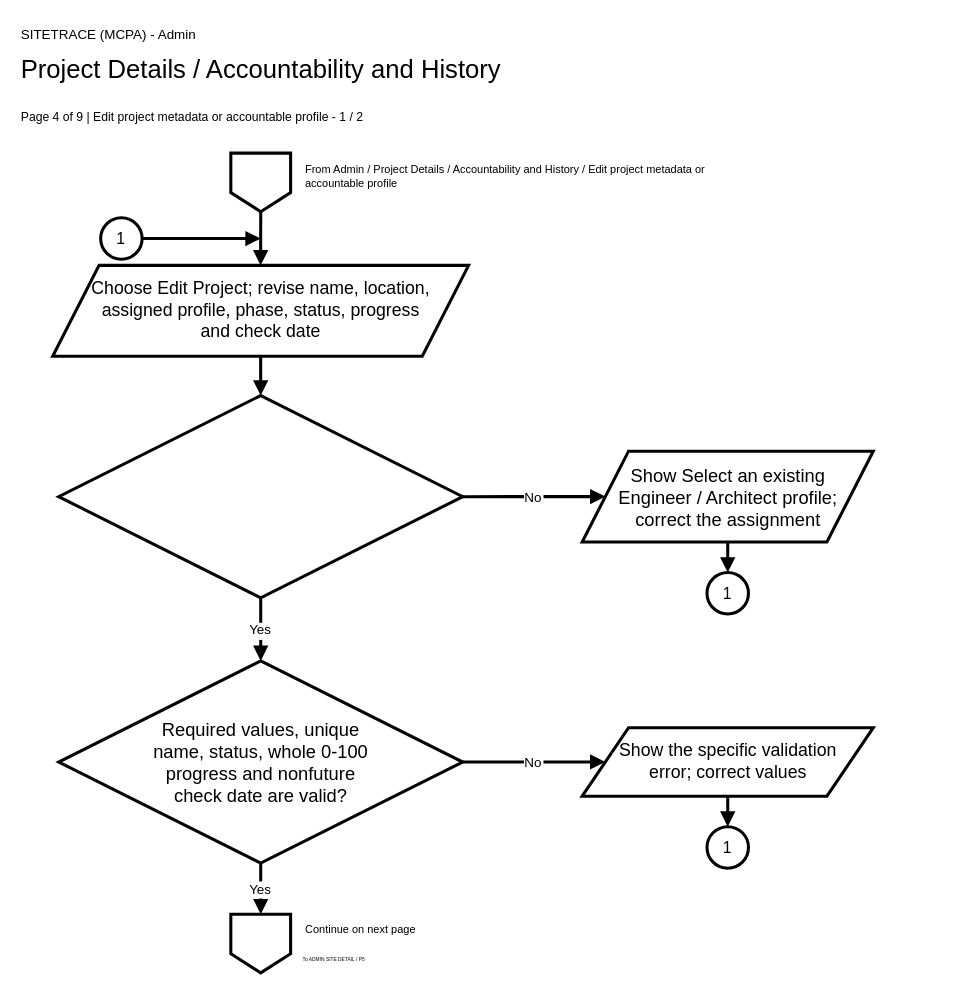
The diagram is 953 pixels wide and 996 high, and some of its shapes have lost their labels. Each missing label, with the centre of its shape:
CX: (260,182)
DD: (260,943)
Valid existing profile selected, or the unchanged legacy assignment is retained?: (260,496)
